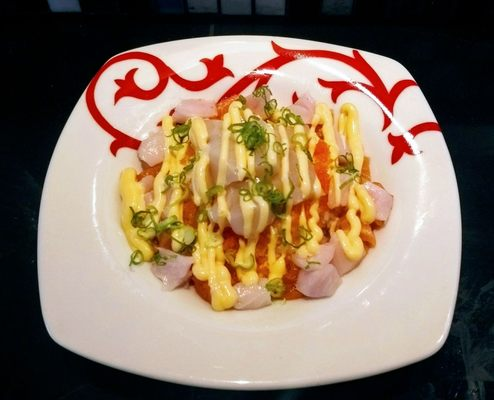curry: (234, 119, 270, 151)
sushi: (11, 37, 462, 391)
